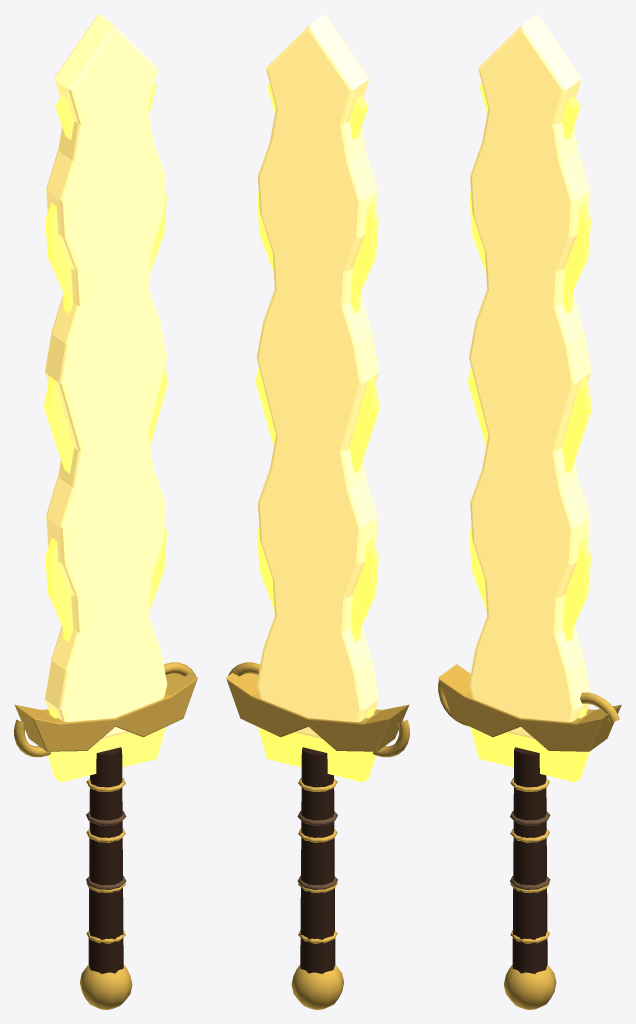
Rendered from greatsword_f3_18135d3c.glb.
3 views of the same model, side by side, from view 1: azimuth 30°, elevation 25°; view 2: azimuth 150°, elevation 25°; view 3: azimuth 330°, elevation 25° (orthographic).
Parts seen in each view (by area): view 1: m1_ow80_, m0_gm110_, m20_ow80_, m18_ow80_, m21_ow80_; view 2: m1_ow80_, m0_gm110_, m20_ow80_, m18_ow80_, m21_ow80_; view 3: m1_ow80_, m0_gm110_, m20_ow80_, m18_ow80_, m21_ow80_.
Boxes of the visible parts, x1,y1,x2,y2 form: m1_ow80_: [45, 14, 167, 739]; m0_gm110_: [44, 84, 168, 782]; m20_ow80_: [14, 662, 197, 1009]; m18_ow80_: [88, 747, 123, 973]; m21_ow80_: [86, 811, 126, 889]; m1_ow80_: [256, 14, 378, 739]; m0_gm110_: [255, 84, 379, 782]; m20_ow80_: [226, 662, 409, 1009]; m18_ow80_: [300, 747, 335, 973]; m21_ow80_: [297, 811, 337, 889]; m1_ow80_: [469, 14, 591, 739]; m0_gm110_: [468, 84, 592, 782]; m20_ow80_: [438, 664, 621, 1009]; m18_ow80_: [512, 747, 547, 973]; m21_ow80_: [510, 811, 550, 889].
Bounding box in the file's own units: 0.6467 × 3.36 × 0.1552.
